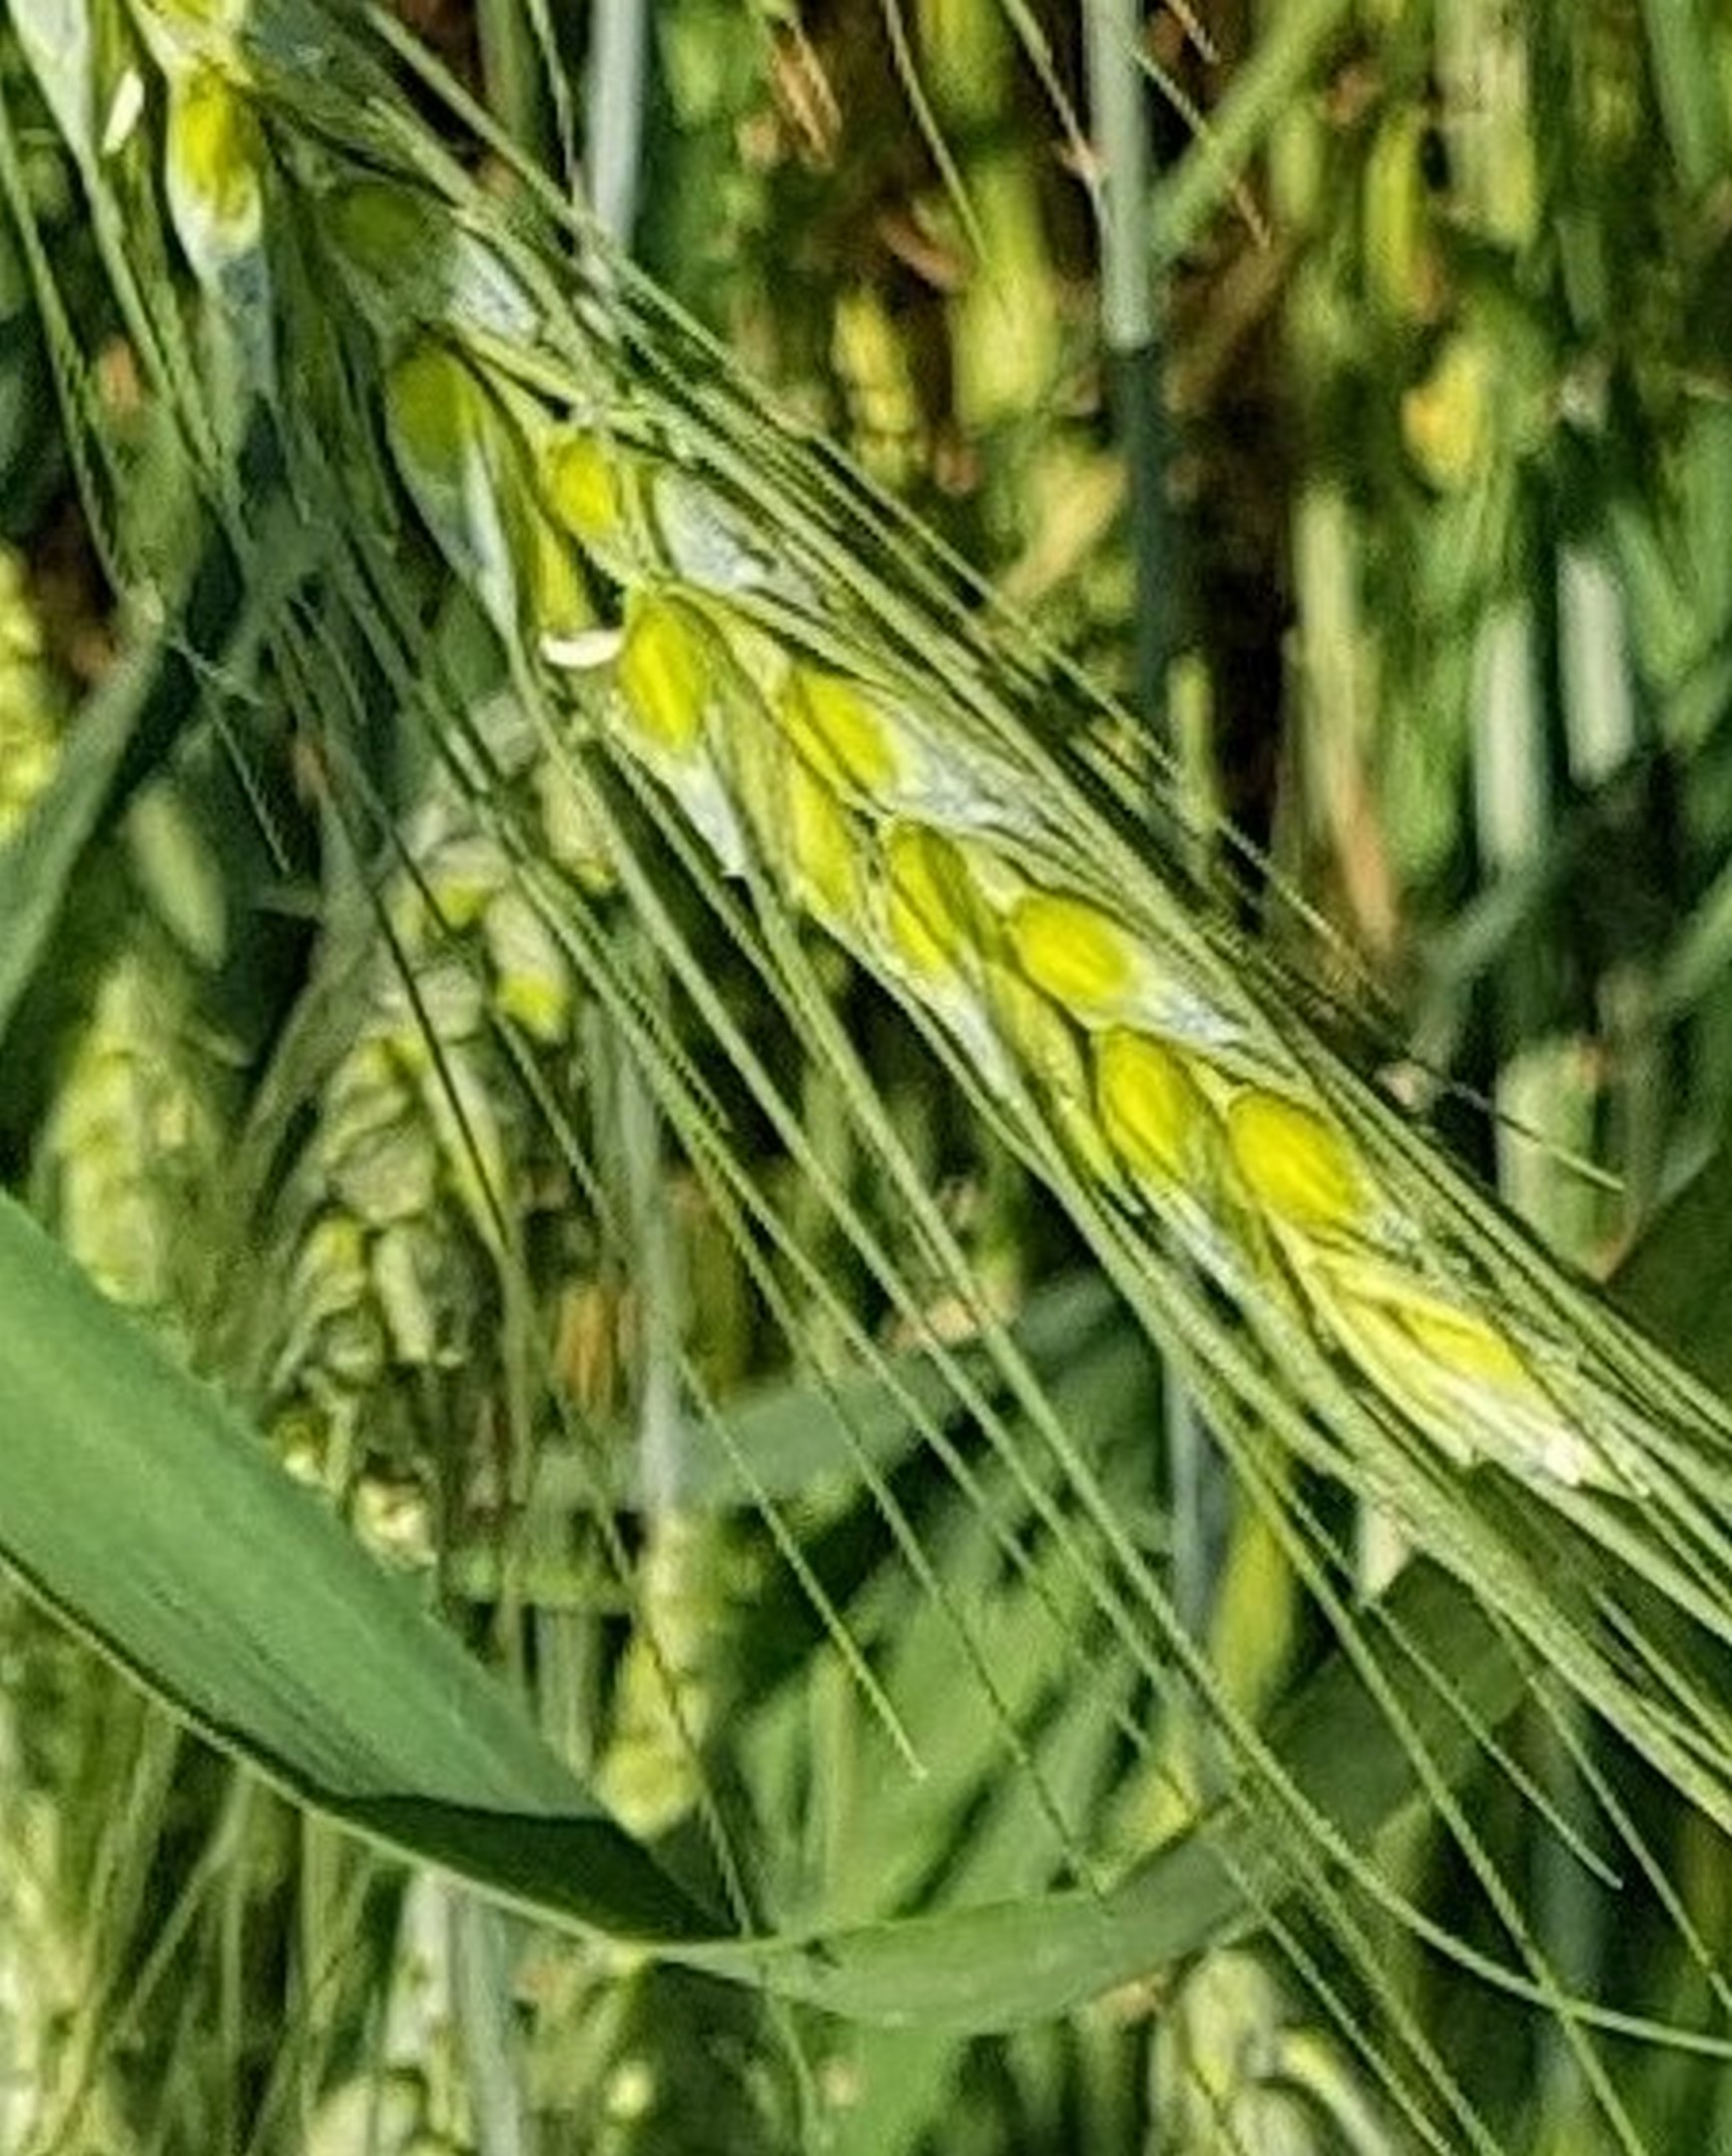Healthy Wheat: (138, 11, 1580, 1515)
